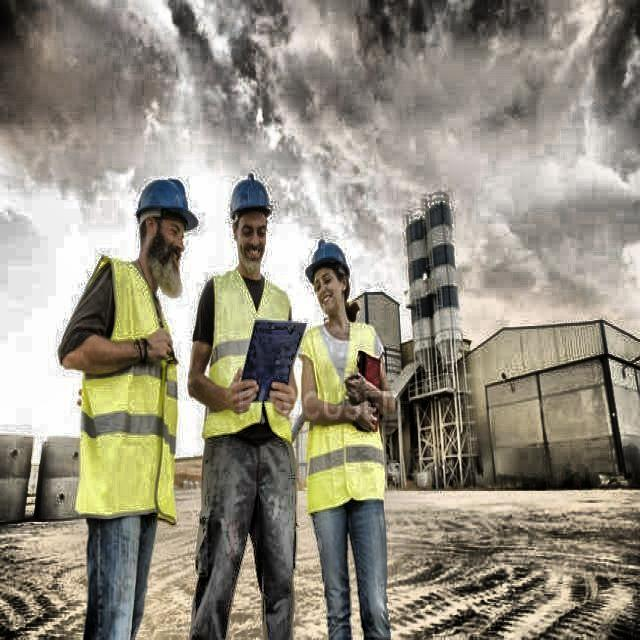safety_jacket: (81, 262, 181, 517), (304, 320, 382, 500), (206, 284, 262, 439)
